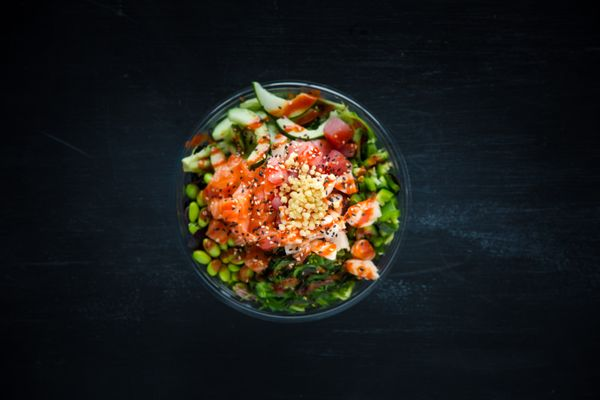sushi: (181, 78, 408, 325)
